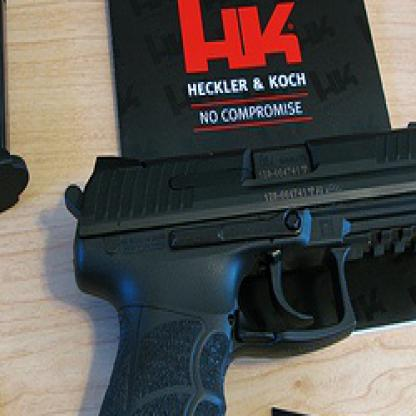gun: (57, 113, 414, 414)
